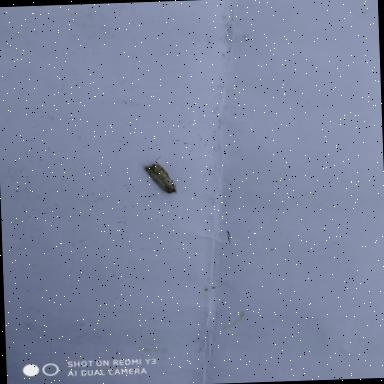pbw: (139, 152, 181, 198)
